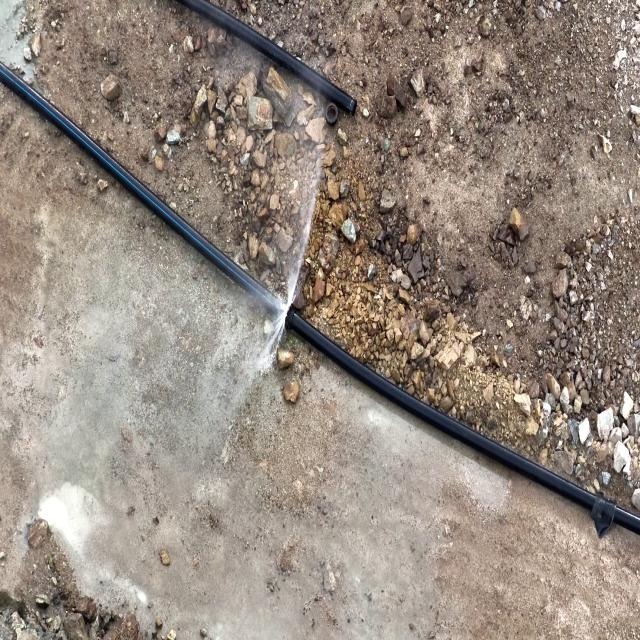leak: (202, 154, 322, 405)
